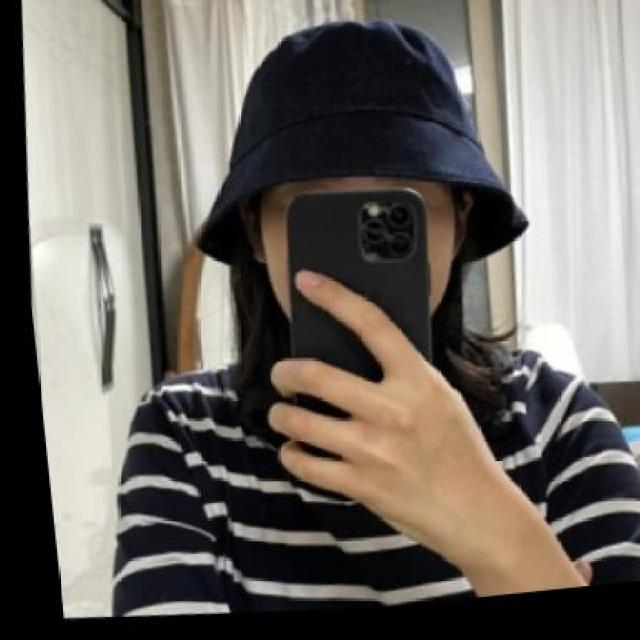hat: (155, 0, 550, 308)
